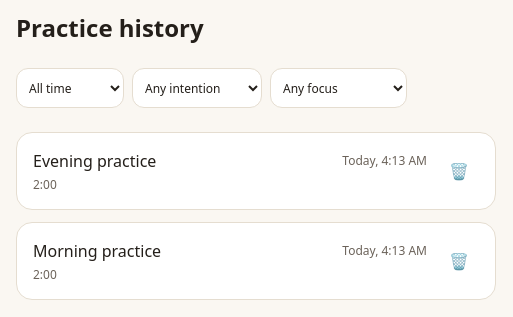
HistoryPage › filters sessions by practice intention
Expected: the text "Morning practice" is shown, 33,239 -> 161,263
Select "Picking" in the dropdown named "Intention": (197, 88) 132,68 -> 262,108
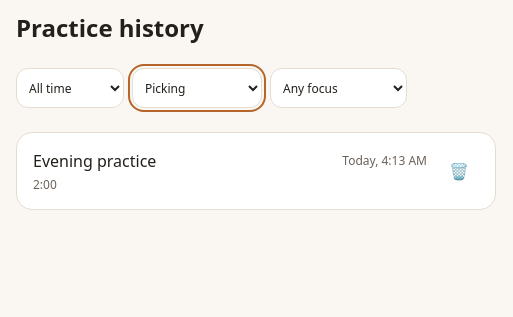
Expected: the text "Evening practice" is shown, 33,149 -> 156,173
Expected: the link "Morning practice" is gone
